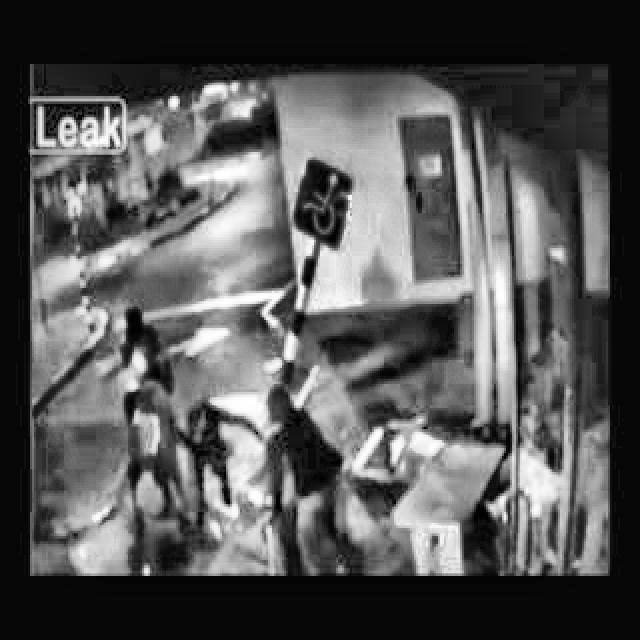burglary: (113, 300, 606, 574)
